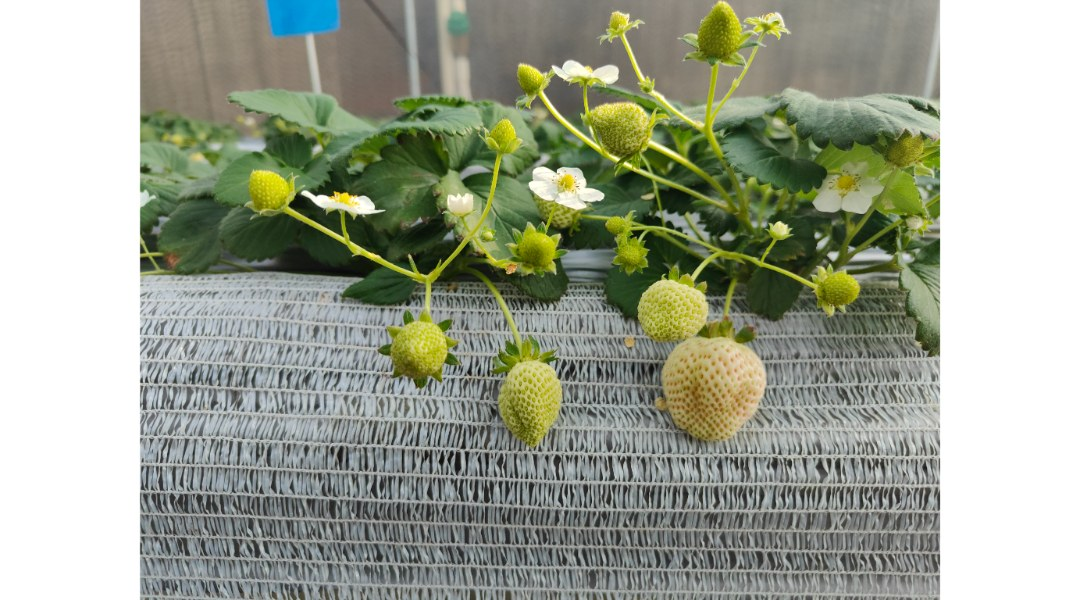berry: (646, 318, 773, 448), (493, 338, 565, 462), (375, 308, 470, 395), (634, 264, 715, 345), (812, 240, 870, 325), (685, 2, 744, 75), (604, 228, 656, 280), (475, 112, 519, 162), (509, 58, 551, 105)
flower: (806, 151, 887, 216), (530, 163, 603, 216), (297, 182, 382, 216), (548, 56, 616, 89), (748, 8, 795, 45), (429, 186, 477, 220), (761, 215, 795, 242)
strain: (715, 32, 758, 131), (534, 97, 598, 162), (485, 268, 527, 367), (634, 169, 722, 215), (710, 137, 748, 207), (655, 143, 714, 184), (575, 87, 606, 152), (288, 210, 339, 247), (478, 160, 504, 229), (663, 100, 702, 139), (625, 38, 650, 90), (770, 259, 814, 288), (357, 256, 412, 277), (428, 246, 466, 276), (689, 256, 718, 286), (725, 273, 741, 324), (703, 65, 713, 123)
